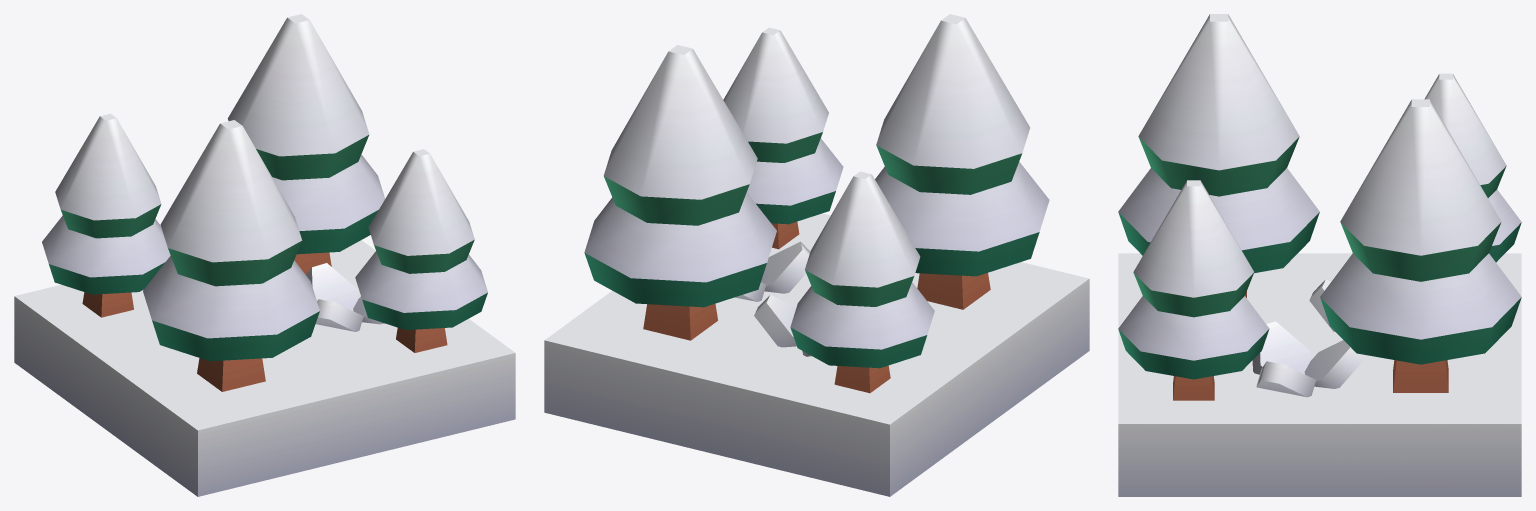
File: kenney-tower-defense-snow-tile-tree-quad.glb
The picture shows the model from 3 angles, left to right: view 1: azimuth 30°, elevation 25°; view 2: azimuth 150°, elevation 25°; view 3: azimuth 270°, elevation 25°; orthographic projection. The views are drawn at different scales.
Parts seen in each view (by area): view 1: snow-tile-tree-quad; view 2: snow-tile-tree-quad; view 3: snow-tile-tree-quad.
Boxes of the visible parts, x1=… form: snow-tile-tree-quad: x1=14, y1=14, x2=515, y2=496; snow-tile-tree-quad: x1=544, y1=14, x2=1089, y2=496; snow-tile-tree-quad: x1=1118, y1=14, x2=1521, y2=496.
Size of the model in its own units: 1 by 0.96 by 1.
Materials: 1 (1 with a texture image).
